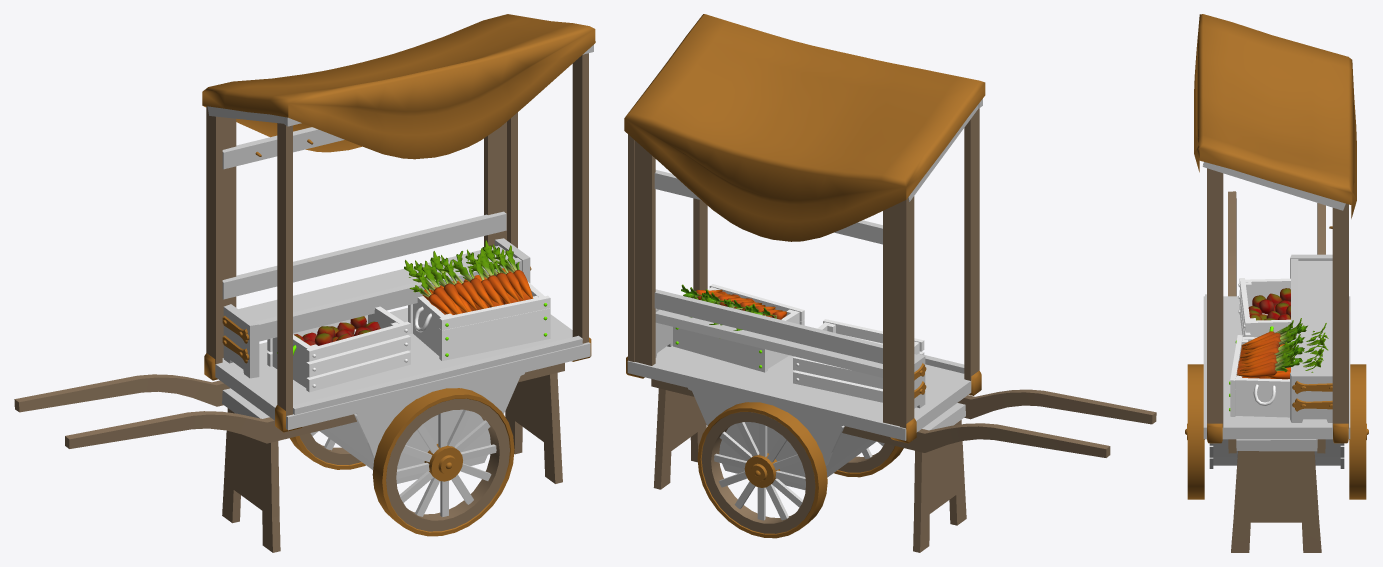
Rendered from fruit_cart.glb.
The picture shows the model from 3 angles, left to right: view 1: azimuth 30°, elevation 25°; view 2: azimuth 150°, elevation 25°; view 3: azimuth 270°, elevation 25°; orthographic projection. The views are drawn at different scales.
Parts seen in each view (by area): view 1: Cylinder094_1, Cylinder094_2, Cylinder094, Cylinder018_1, Cylinder057, Cylinder018, Cylinder057_2; view 2: Cylinder094_1, Cylinder094_2, Cylinder094, Cylinder057, Cylinder018_1, Cylinder018; view 3: Cylinder094_1, Cylinder094_2, Cylinder094, Cylinder018, Cylinder018_1, Cylinder057, Cylinder057_2.
Part boxes in pixels (x1,y1,x2,y2): Cylinder094_1: (14,45,593,552); Cylinder094_2: (202,14,595,159); Cylinder094: (204,139,591,536); Cylinder018_1: (408,282,550,360); Cylinder057: (267,306,410,392); Cylinder018: (404,240,533,314); Cylinder057_2: (294,316,380,345); Cylinder094_1: (627,99,1156,552); Cylinder094_2: (624,14,985,241); Cylinder094: (626,356,981,538); Cylinder057: (793,319,924,402); Cylinder018_1: (673,284,804,372); Cylinder018: (681,284,786,330); Cylinder094_1: (1202,162,1350,552); Cylinder094_2: (1194,14,1356,218); Cylinder094: (1185,226,1368,499); Cylinder018: (1237,318,1328,379); Cylinder018_1: (1230,335,1289,417); Cylinder057: (1239,278,1290,337); Cylinder057_2: (1248,288,1290,320).
Size of the model in its own units: 3.02 by 2.63 by 1.06.
